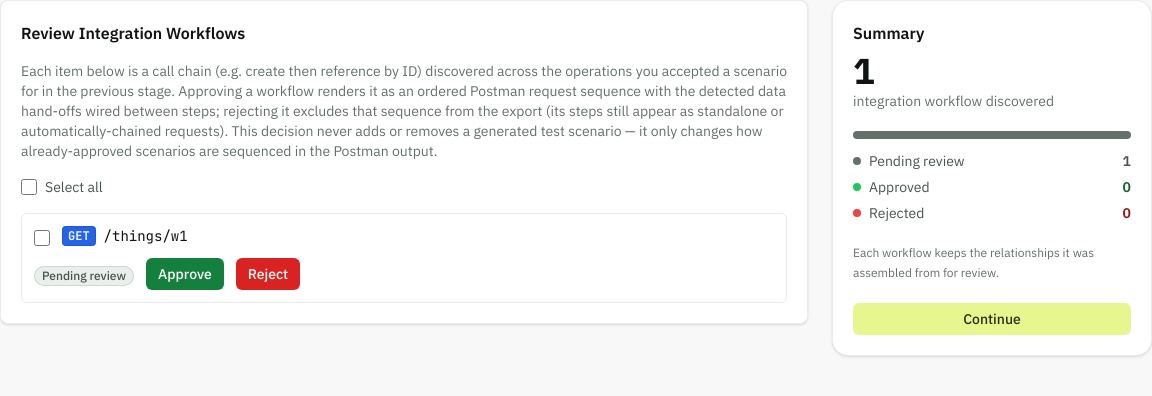
Test: WorkflowReviewStage bulk actions › shows a Continue failure at the top of the stage, before the workflow list, and scrolls it into view
Click the button "Continue" at (992, 319), box [853,303,1131,335]
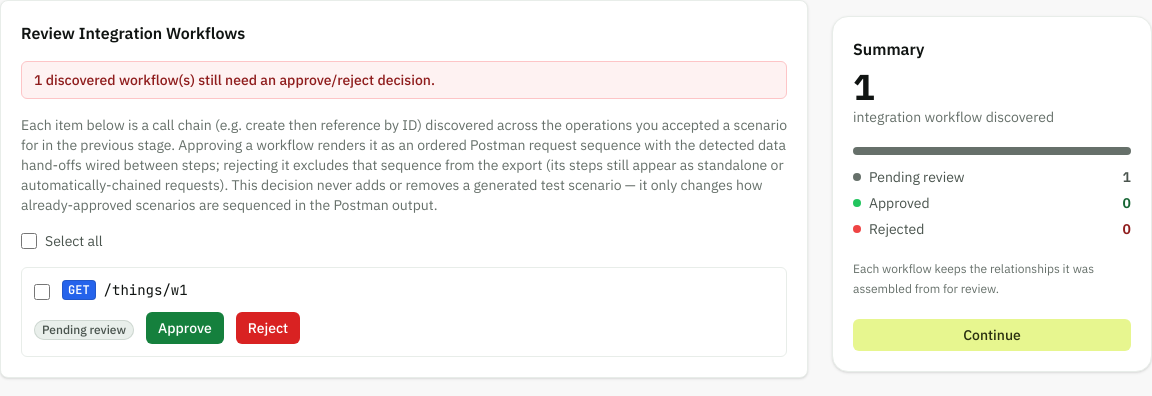
Expected: the message shows "still need an approve/reject decision", [34,71,435,89]
